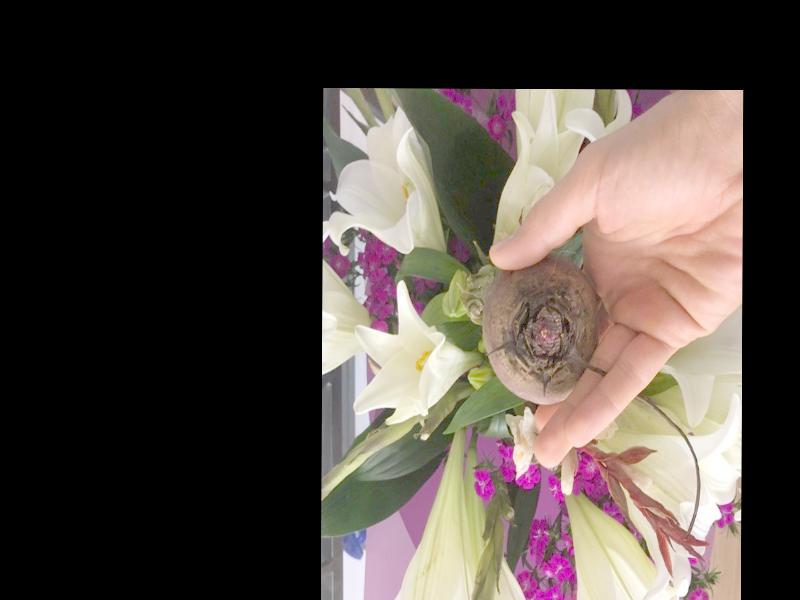Beet: (481, 256, 603, 407)
